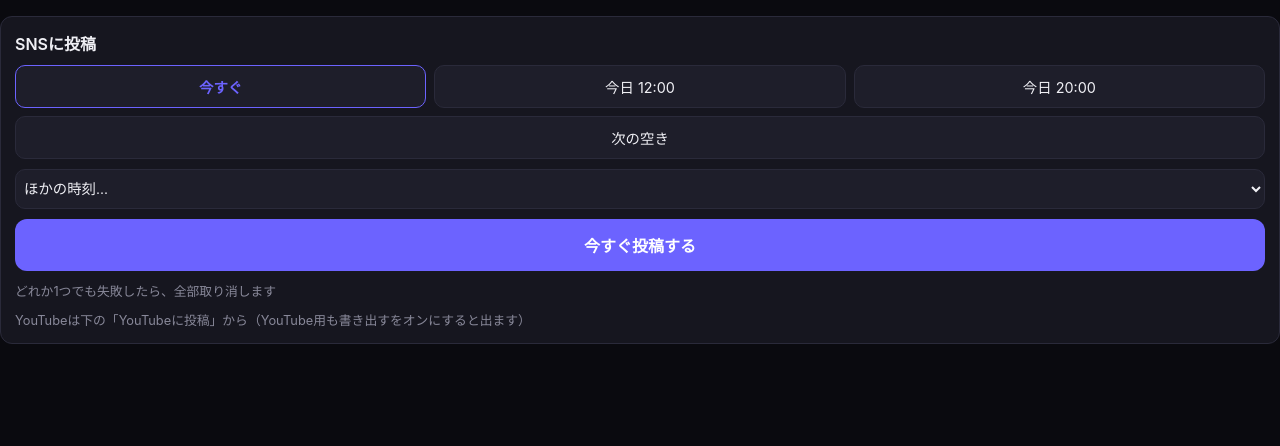
Scenario: PostToSns › shows each network and locks once all are sent
Click the button "今すぐ投稿する" at (640, 245), box [15, 219, 1265, 271]
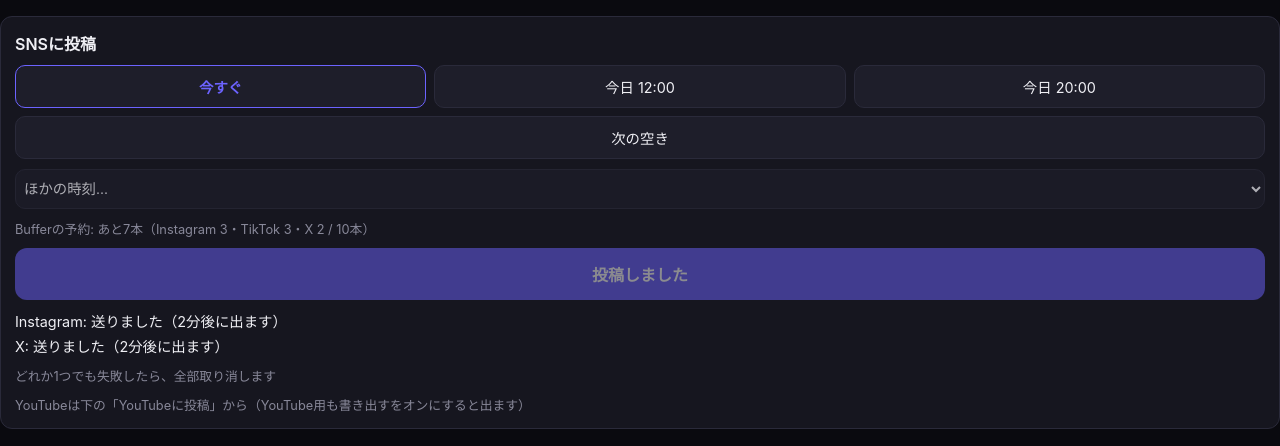
Now the list item "X: 送りました（2分後に出ます）" is shown, box [15, 338, 229, 355]
Now the button "投稿しました" is disabled, box [15, 248, 1265, 300]
